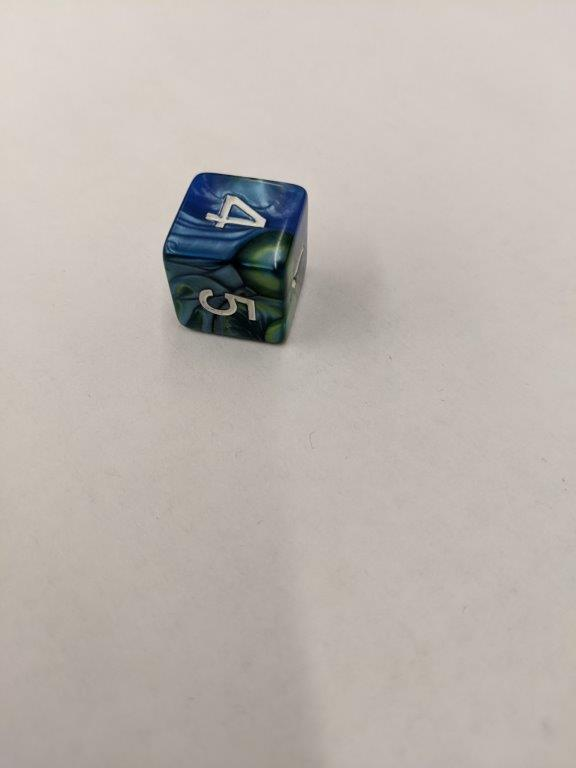d6-4: (162, 169, 311, 348)
